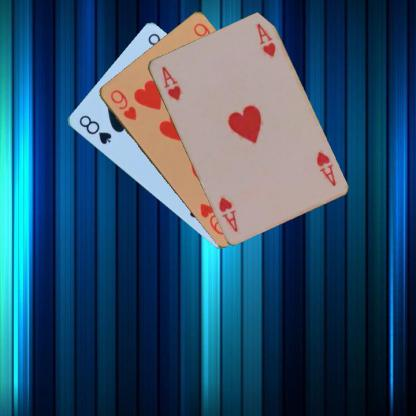8s: (76, 112, 112, 146)
9h: (108, 87, 138, 122)
Ah: (313, 149, 337, 188), (159, 63, 182, 102)
